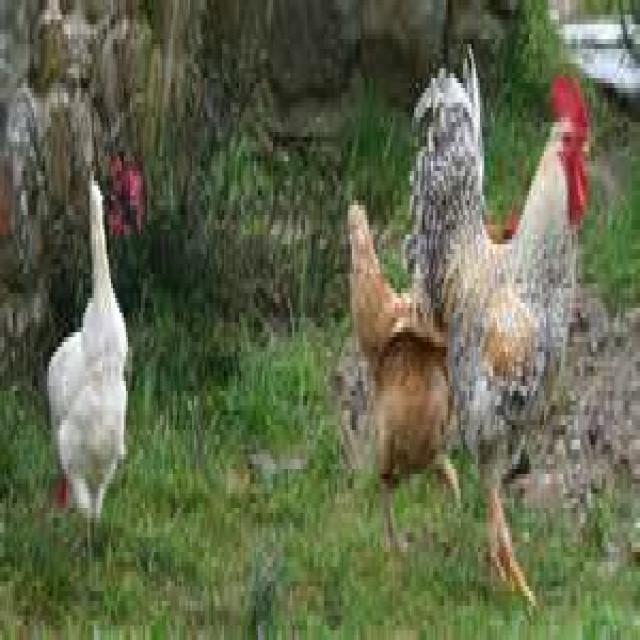animal: (401, 44, 591, 611), (346, 195, 460, 557), (45, 166, 130, 557)
